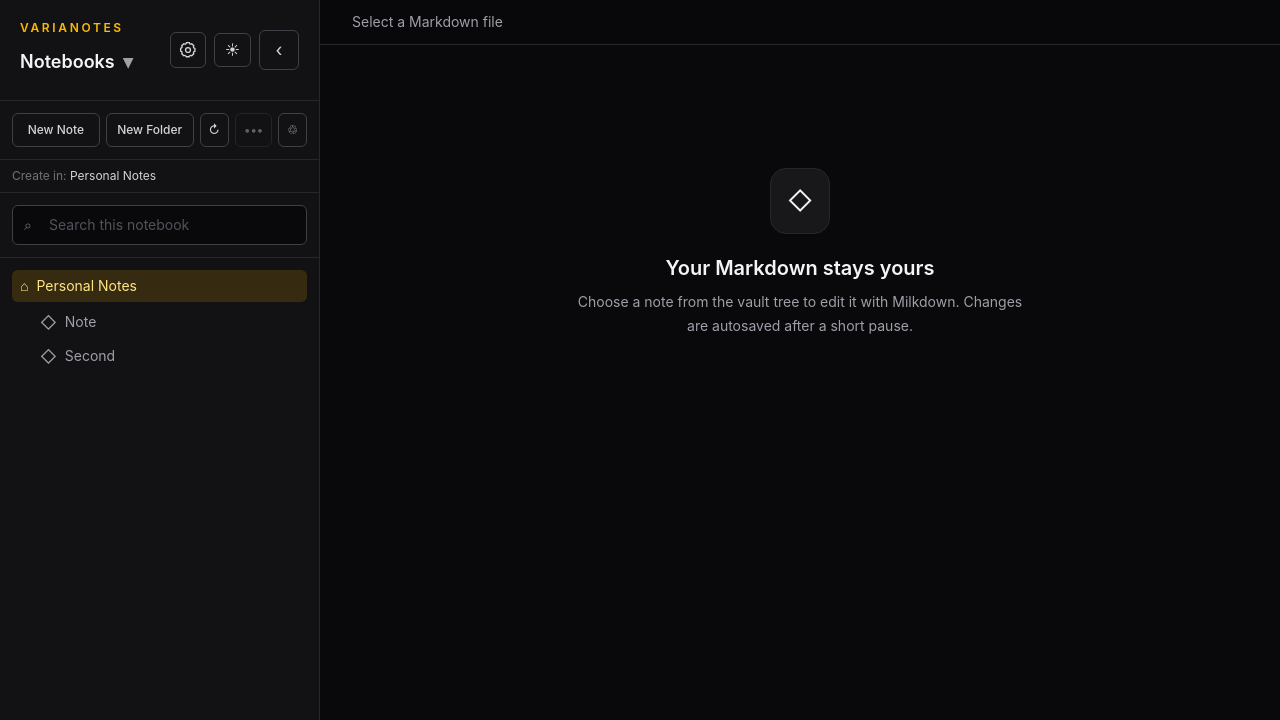
Test: App auto-lock integration › offers creation from note and notebook-root context menus
Right-click the element "Note".
right_click(160, 322)  # box [12,306,307,338]
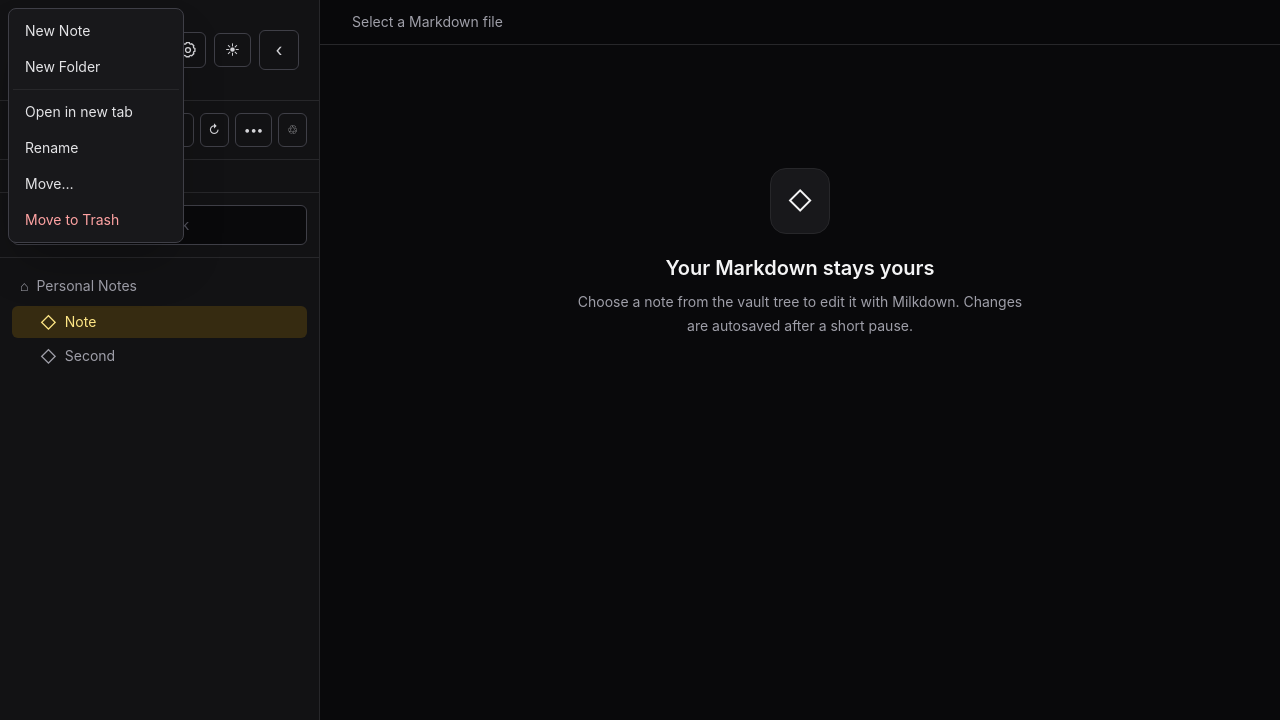
Expected: the menu item "New Note" is shown, [13,13,179,49]
Expected: the menu item "New Folder" is shown
Click the menu item "New Folder".
click(96, 67)  # box [13,49,179,85]
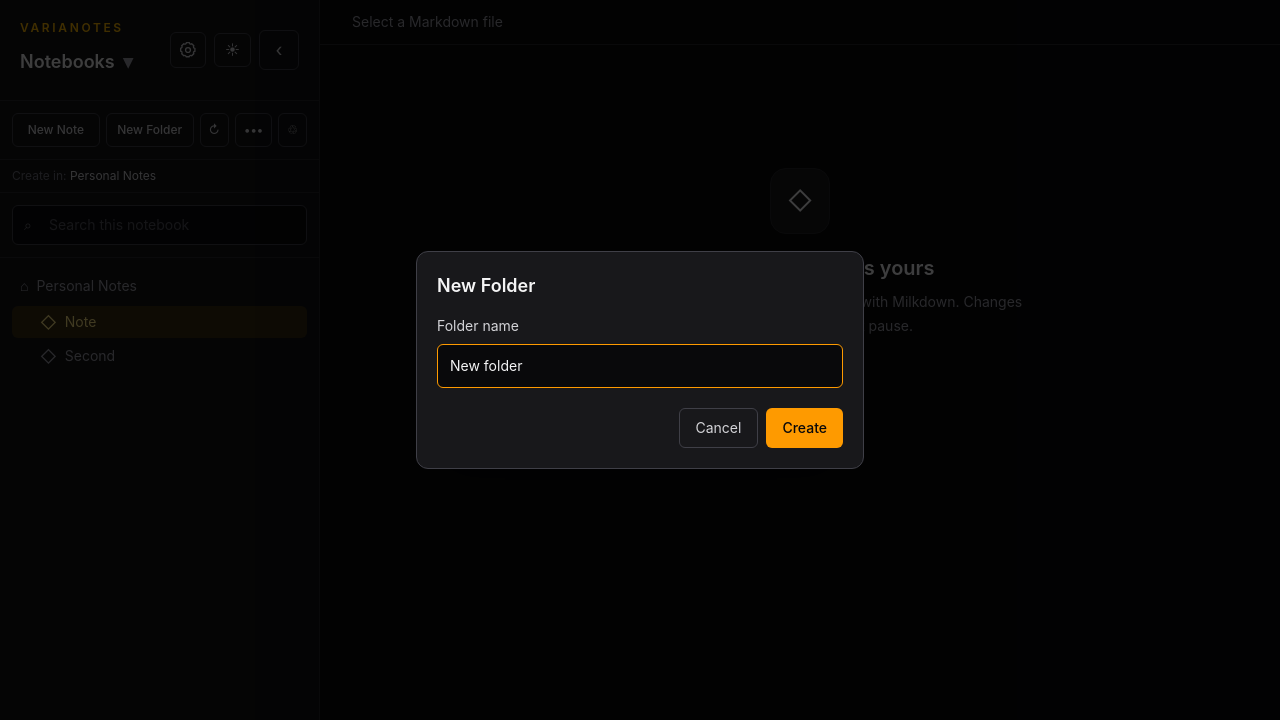
Expected: the dialog "New Folder" is shown, [416,251,864,469]
Click the button "Cancel".
click(718, 428)  # box [678,408,758,448]
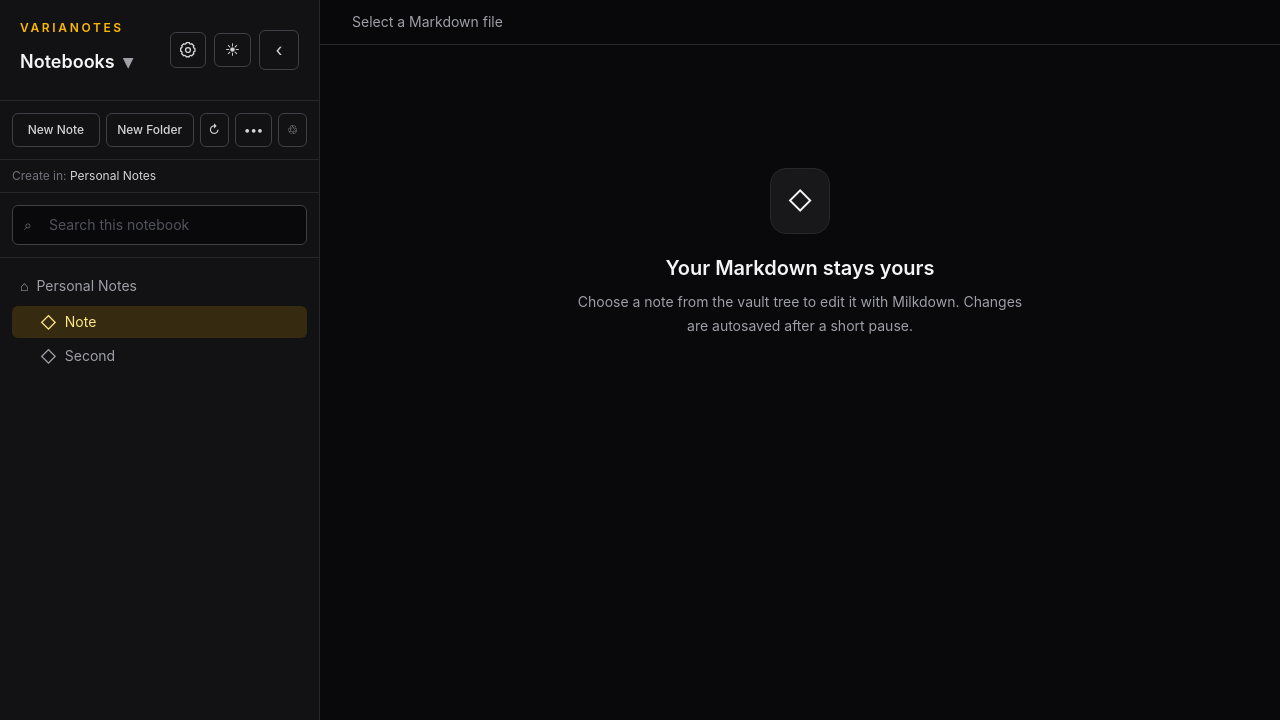
Right-click the button "⌂ Personal Notes".
right_click(87, 286)  # box [12,270,307,302]
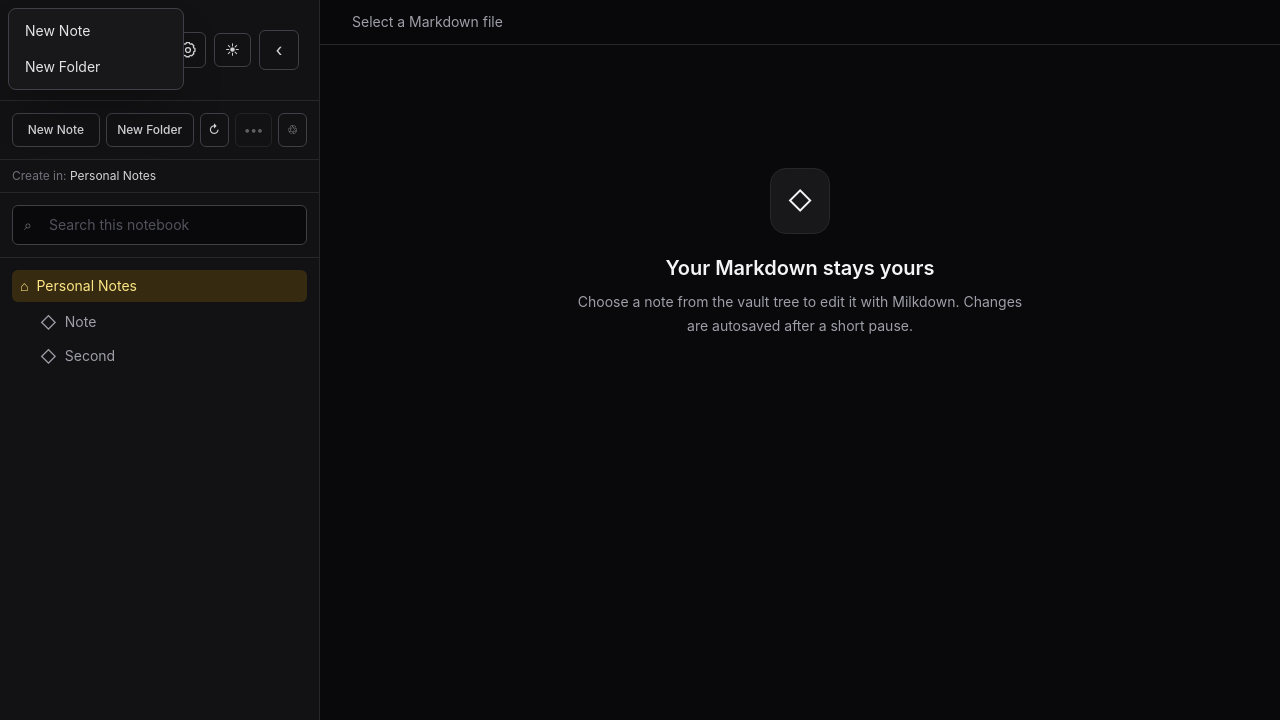
Expected: the menu item "New Note" is shown, [13,13,179,49]
